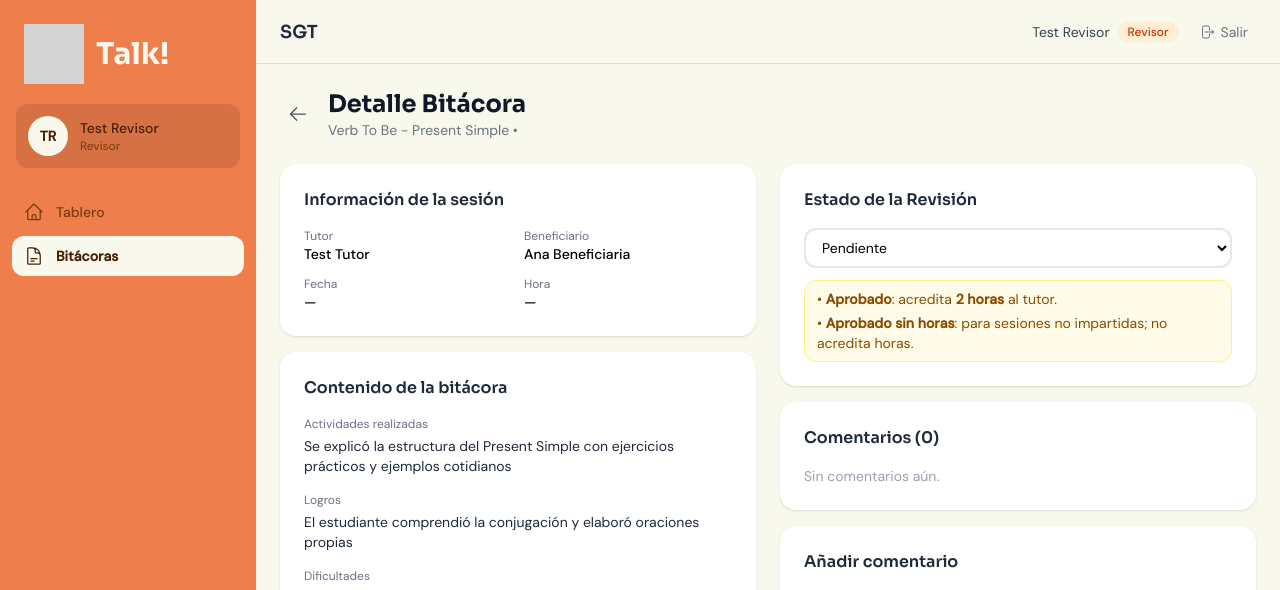
it: INT-03 | Aprobado sin horas — coordinador acredita horas extra manualmente › Revisor aprueba la bitácora sin contar horas con motivo obligatorio
Select "Aprobado sin horas" in the dropdown: [1018, 248] box [804,228,1232,268]
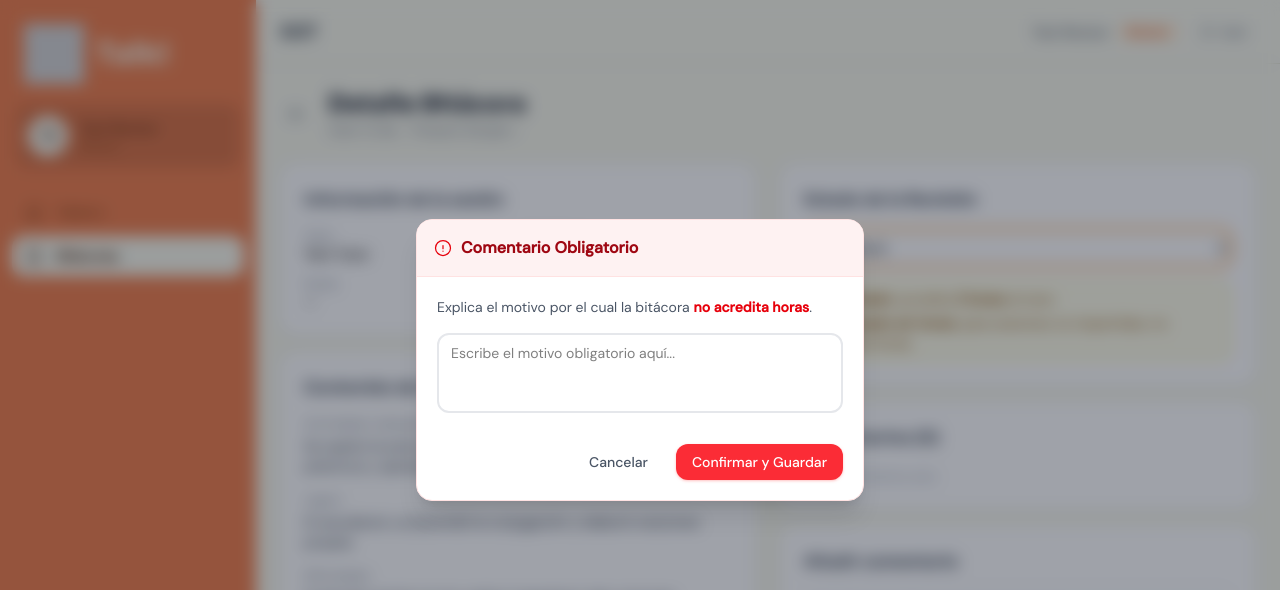
In the text box with placeholder "Escribe el motivo obligatorio aquí...": [640, 373] box [437,333,843,413], type "El beneficiario no se presentó. Se aprueba sin contar horas impartidas."
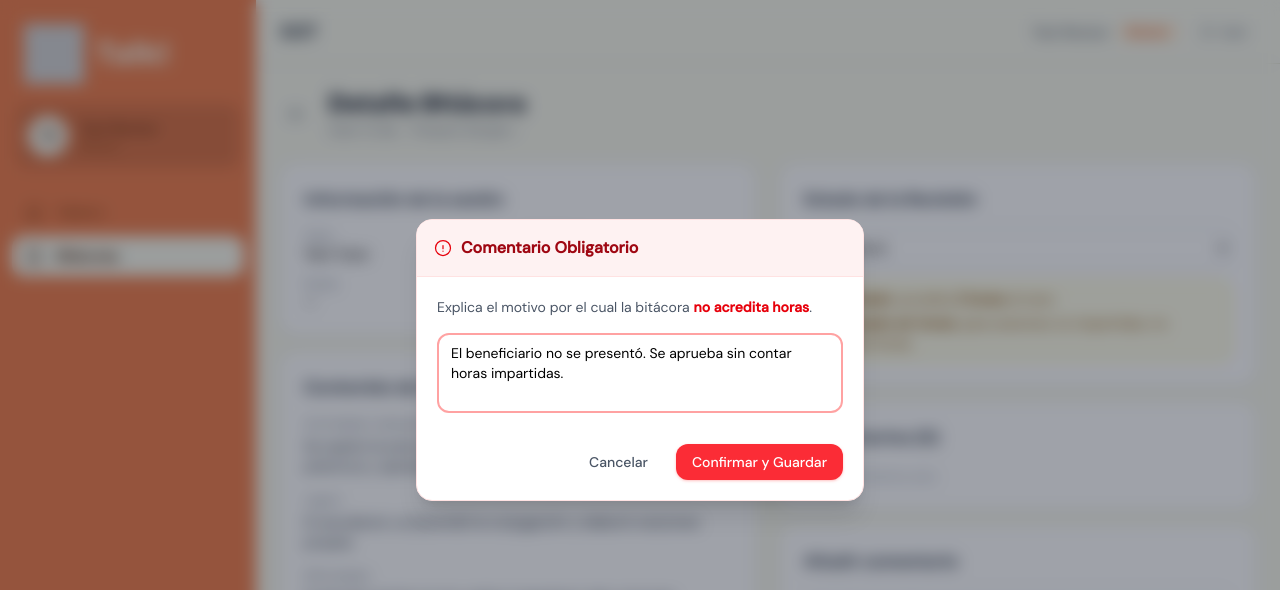
Click the button "Confirmar y Guardar": [760, 462] box [676,444,843,480]
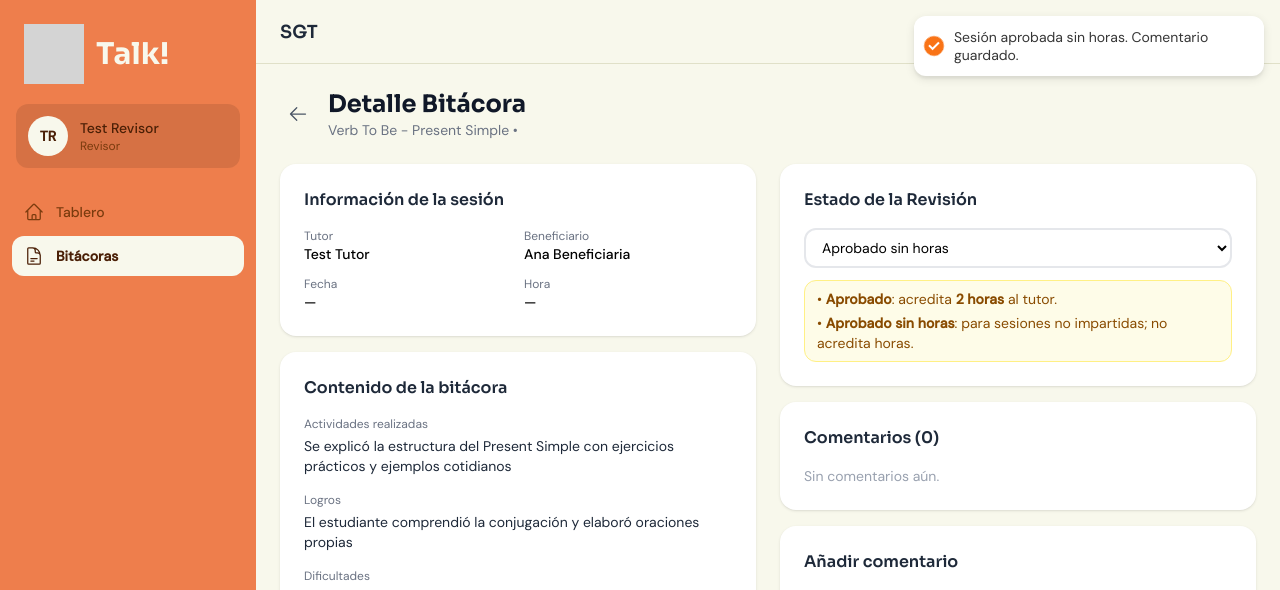
Expected: the text "Sesión aprobada sin horas. Comentario guardado." is shown, [954,28,1244,64]
